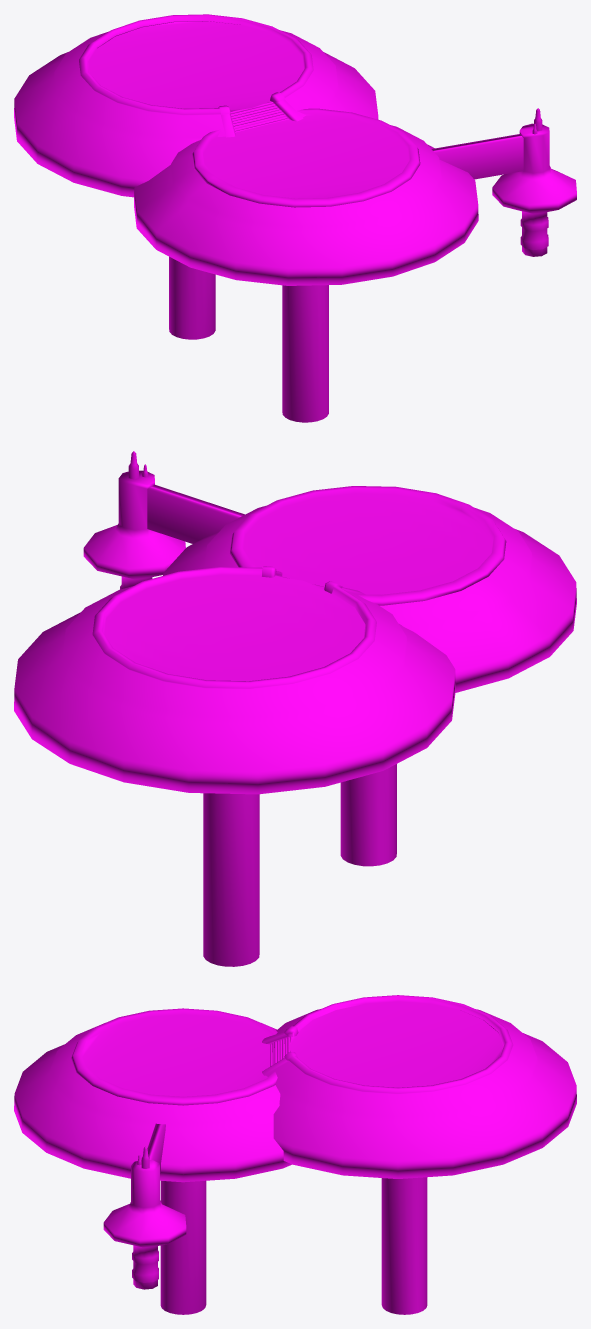
3 views of the same model, one above another, from view 1: azimuth 30°, elevation 25°; view 2: azimuth 150°, elevation 25°; view 3: azimuth 270°, elevation 25° (orthographic). The views are drawn at different scales.
Visible parts, largest first — view 1: polySurface12157, polySurface12145, polySurface12156, polySurface12125, polySurface12128, polySurface12147, polySurface12148; view 2: polySurface12157, polySurface12156, polySurface12145, polySurface12147, polySurface12125, polySurface12128; view 3: polySurface12157, polySurface12145, polySurface12156, polySurface12147, polySurface12125, polySurface12128, polySurface12148.
Part boxes in pixels (<box>): polySurface12157: <box>14,14,378,197</box>; polySurface12145: <box>134,125,478,285</box>; polySurface12156: <box>192,108,420,207</box>; polySurface12125: <box>431,123,576,256</box>; polySurface12128: <box>282,285,328,422</box>; polySurface12147: <box>169,256,215,339</box>; polySurface12148: <box>230,101,288,132</box>; polySurface12157: <box>14,566,455,794</box>; polySurface12156: <box>230,486,506,605</box>; polySurface12145: <box>163,506,576,692</box>; polySurface12147: <box>203,793,259,966</box>; polySurface12125: <box>83,470,244,589</box>; polySurface12128: <box>340,764,396,866</box>; polySurface12157: <box>262,995,576,1178</box>; polySurface12145: <box>14,1023,291,1182</box>; polySurface12156: <box>71,1008,277,1105</box>; polySurface12147: <box>381,1177,427,1314</box>; polySurface12125: <box>103,1123,186,1289</box>; polySurface12128: <box>160,1180,206,1314</box>; polySurface12148: <box>270,1036,291,1066</box>.
Size of the model in its own units: 262 by 167 by 322.
